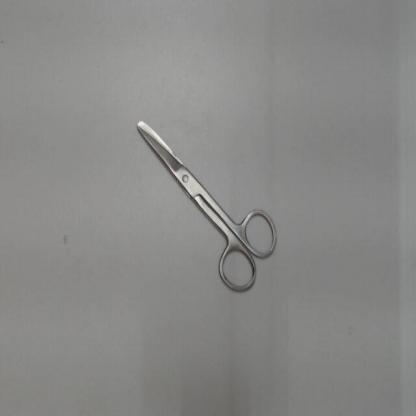Dressing Scissors: (124, 108, 282, 305)
